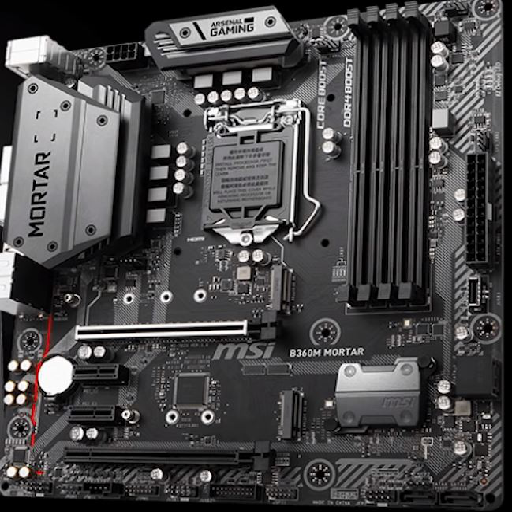CPU: (200, 114, 295, 242)
GPU: (62, 440, 274, 476), (75, 312, 286, 346)
MOTHERBOARD: (5, 32, 512, 509)
RAM: (346, 6, 434, 311)
SSD: (276, 386, 302, 443), (267, 266, 291, 311)
